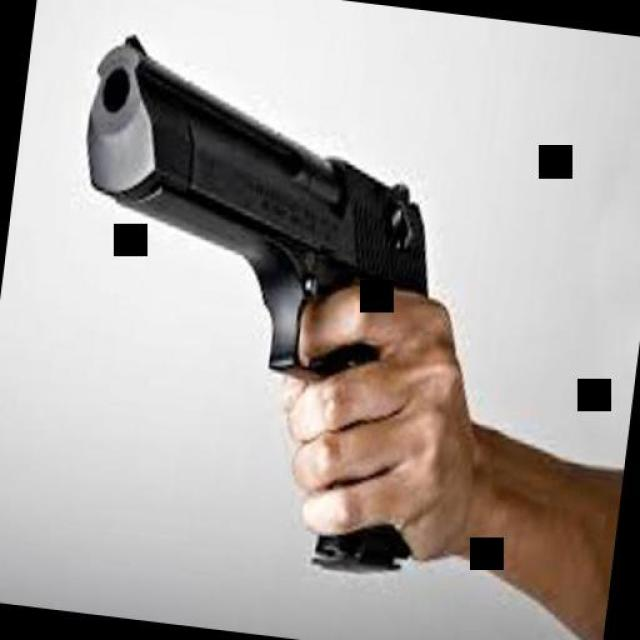gun: (35, 26, 483, 576)
